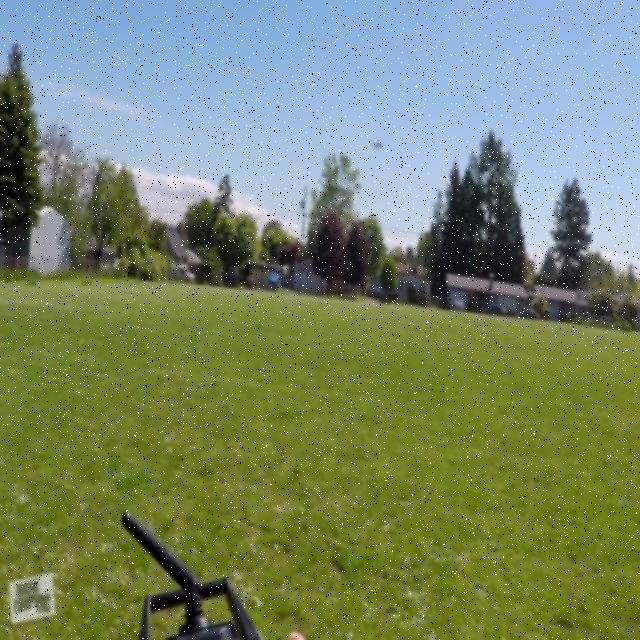UAV: (370, 140, 384, 152)
